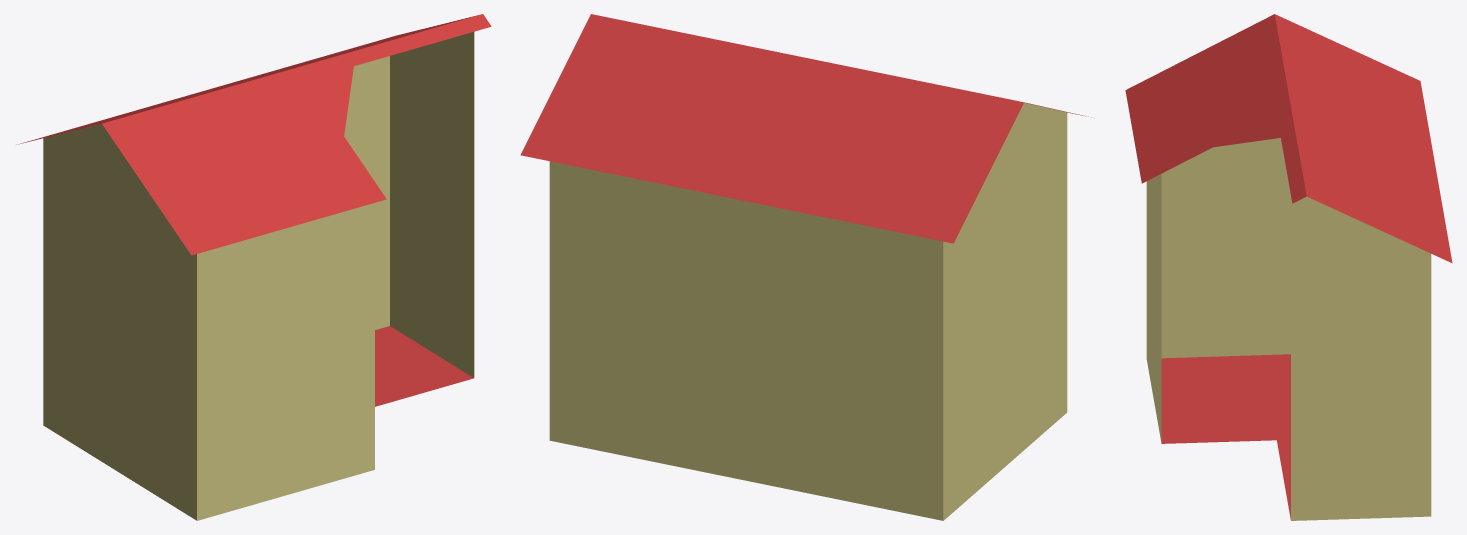
3 renders of one model, left to right at view 1: azimuth 30°, elevation 25°; view 2: azimuth 150°, elevation 25°; view 3: azimuth 270°, elevation 25°, orthographic. The views are drawn at different scales.
Bounding box in the file's own units: 11.2 × 8.26 × 9.25.
